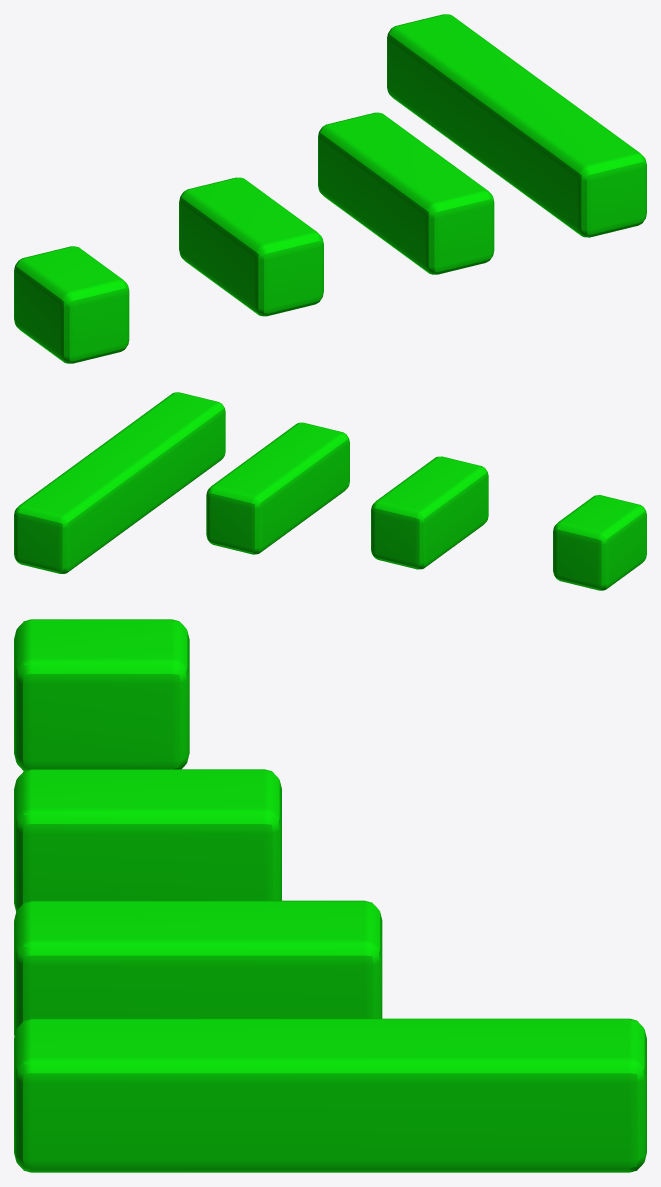
The model's file is Side_Grass.fbx.
3 renders of one model, top to bottom at view 1: azimuth 30°, elevation 25°; view 2: azimuth 150°, elevation 25°; view 3: azimuth 270°, elevation 25°, orthographic. The views are drawn at different scales.
Visible parts, largest first — view 1: Side_Grass; view 2: Side_Grass; view 3: Side_Grass.
Boxes of the visible parts, x1,y1,x2,y2 form: Side_Grass: (14, 14, 646, 363); Side_Grass: (14, 392, 646, 590); Side_Grass: (14, 619, 646, 1172).
Bounding box in the file's own units: 35.25 × 4.16 × 20.87.
